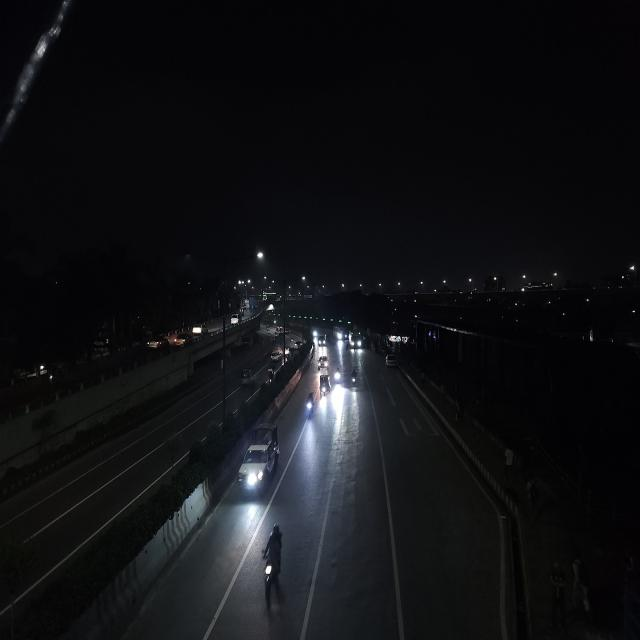bus: (349, 331, 363, 352), (335, 327, 347, 341), (272, 338, 282, 352)
car: (235, 422, 282, 502), (143, 336, 171, 349), (384, 352, 398, 369), (191, 321, 205, 337), (317, 355, 329, 372), (173, 336, 187, 350), (270, 352, 282, 363), (229, 314, 239, 327), (317, 336, 325, 346)
cng: (319, 372, 331, 398), (240, 368, 253, 387), (266, 323, 270, 332)
motorcycle: (256, 522, 292, 603), (303, 390, 315, 422), (350, 365, 360, 388), (333, 363, 341, 386)
pedestrian: (346, 338, 349, 352)
